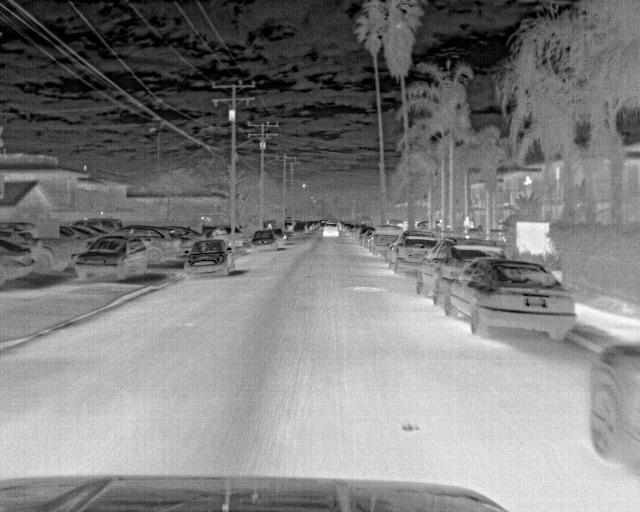car: (443, 256, 579, 341), (588, 342, 638, 468), (416, 245, 495, 303), (0, 222, 70, 276), (74, 235, 152, 283), (108, 224, 178, 266), (397, 232, 444, 281), (180, 238, 233, 281), (0, 236, 33, 288), (371, 224, 403, 258), (73, 217, 124, 234), (251, 228, 279, 255), (61, 225, 92, 246), (286, 220, 308, 237), (276, 227, 291, 250), (321, 223, 343, 238)
